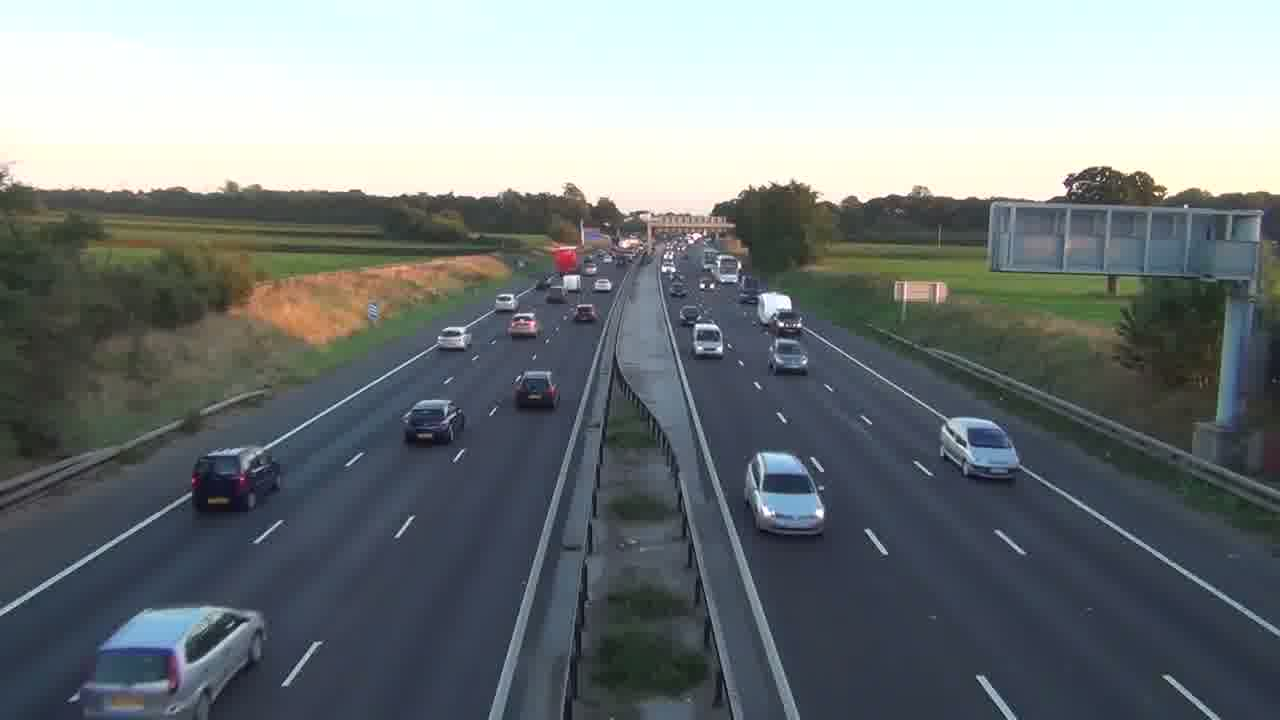car: (743, 449, 829, 536), (190, 444, 283, 512), (939, 415, 1020, 481), (401, 398, 464, 445), (512, 369, 559, 409), (767, 338, 809, 374), (692, 323, 724, 359), (438, 326, 468, 350), (573, 303, 598, 324)
truck: (67, 604, 268, 717), (755, 291, 793, 327), (716, 256, 742, 284)
